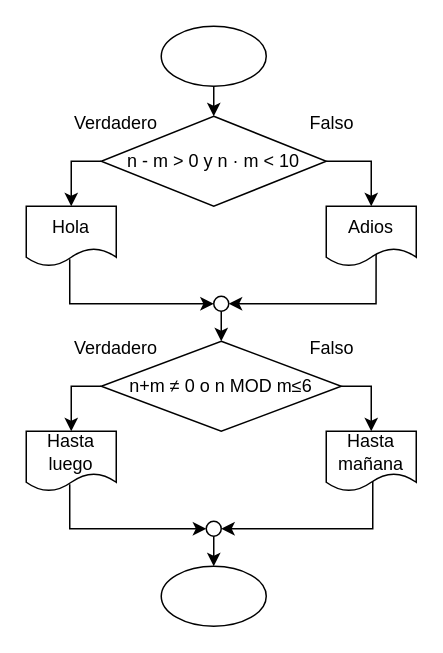
Image size: 443x653. Some labels were removed from this diagram. Each missing label, with the centre of its shape:
"FIN" goes at point 213,595.
"INICIO" goes at point 213,55.
